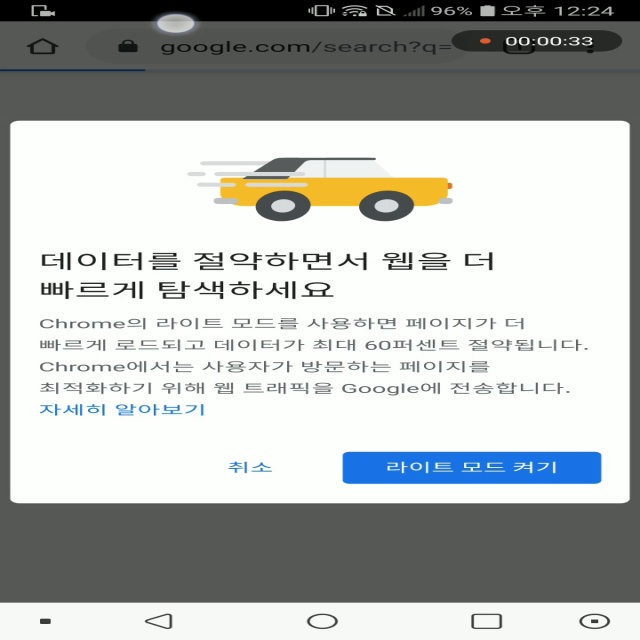Cursor: (154, 12, 199, 35)
